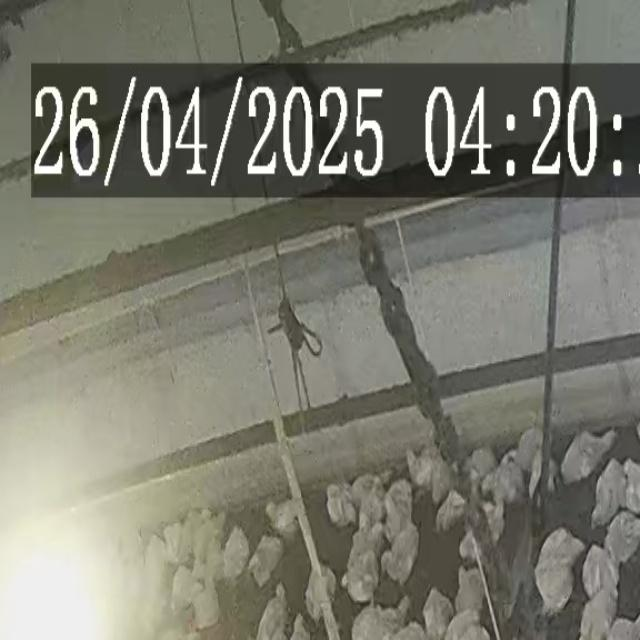chicken: (560, 423, 619, 480), (382, 522, 422, 582), (588, 459, 624, 524), (584, 585, 620, 639), (301, 562, 335, 618), (257, 584, 292, 638), (419, 586, 452, 637), (323, 480, 358, 528), (582, 544, 617, 591), (193, 578, 224, 628), (454, 562, 486, 610), (252, 535, 281, 585), (225, 527, 252, 575), (387, 481, 415, 525), (171, 565, 198, 608), (264, 500, 299, 532)
